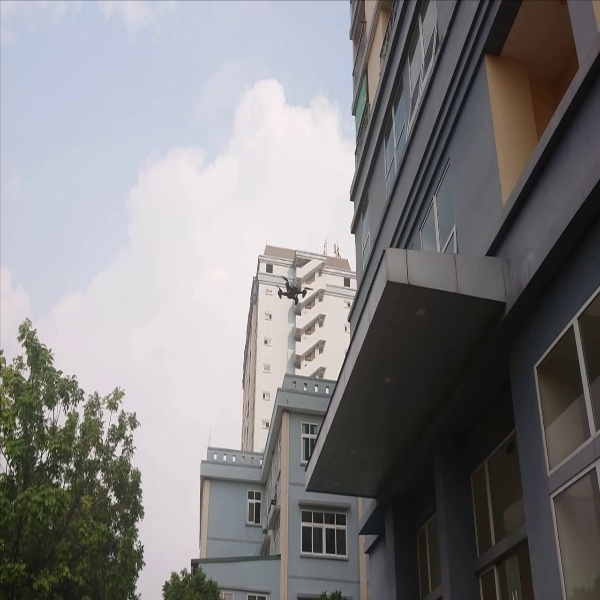drone: (274, 273, 310, 308)
